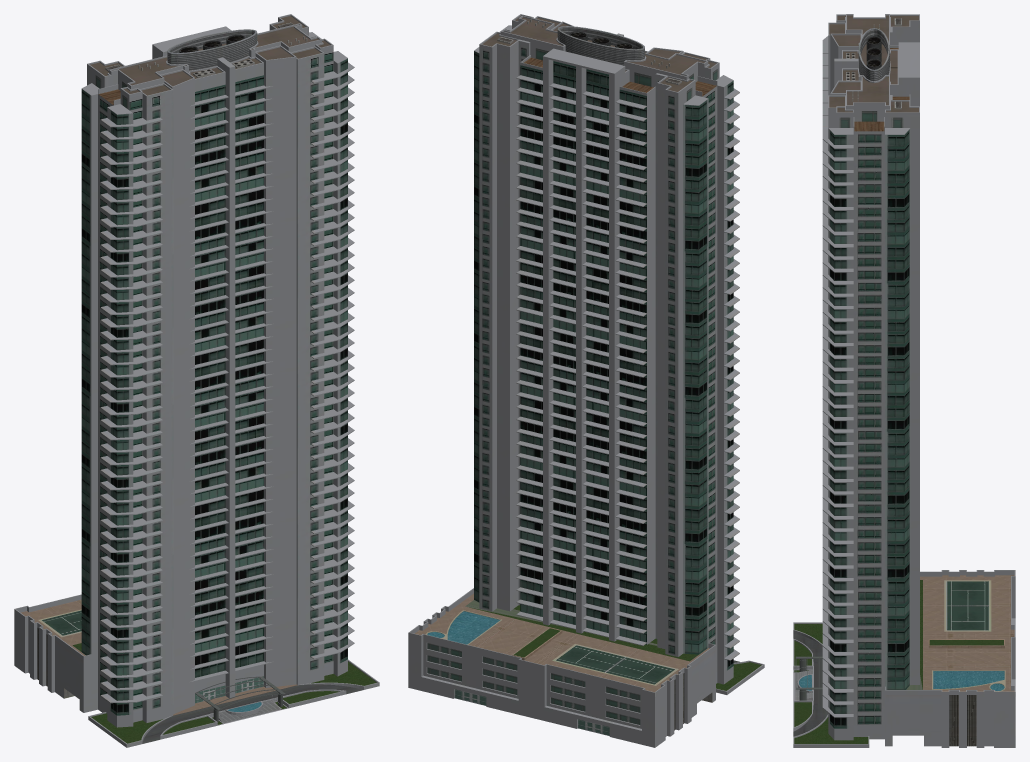
Rendered from hotel-miami.glb.
3 views of the same model, side by side, from view 1: azimuth 30°, elevation 25°; view 2: azimuth 150°, elevation 25°; view 3: azimuth 270°, elevation 25° (orthographic). The views are drawn at different scales.
Parts seen in each view (by area): view 1: hirise8_hirise8_0; view 2: hirise8_hirise8_0; view 3: hirise8_hirise8_0.
Part boxes in pixels (<box>): hirise8_hirise8_0: <box>14,14,379,747</box>; hirise8_hirise8_0: <box>408,14,764,747</box>; hirise8_hirise8_0: <box>793,14,1015,747</box>.
Bounding box in the file's own units: 6666 × 16247 × 5129.
Materials: 1 (1 with a texture image).
